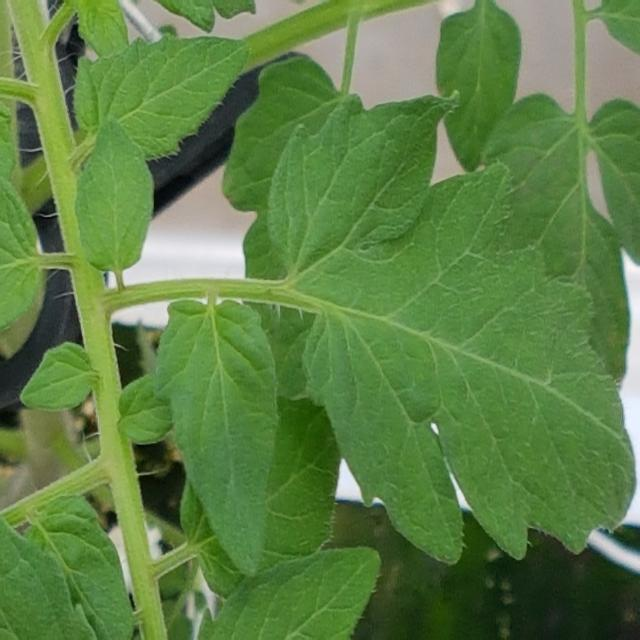Healthy Leaf: (274, 93, 636, 565), (489, 98, 640, 388), (155, 299, 277, 578), (74, 36, 246, 161), (198, 545, 376, 640), (26, 494, 136, 640), (438, 8, 520, 170), (74, 122, 154, 271), (0, 172, 37, 336)
